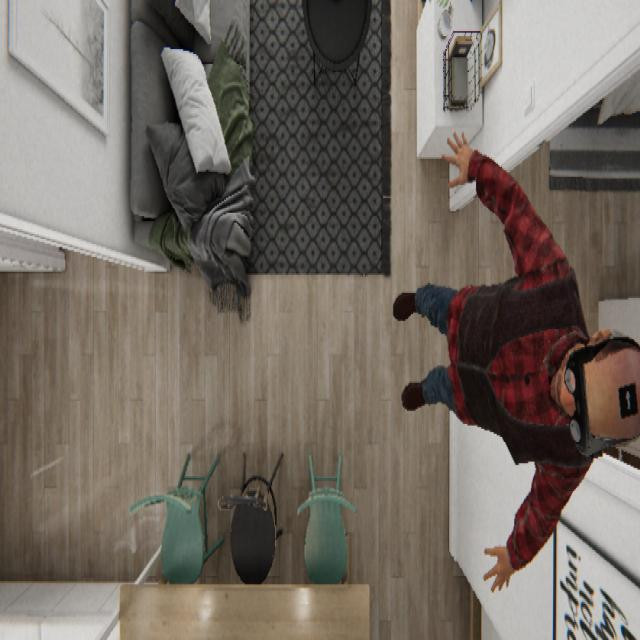Human: (392, 128, 638, 592)
UnityLogo: (617, 378, 638, 419)
